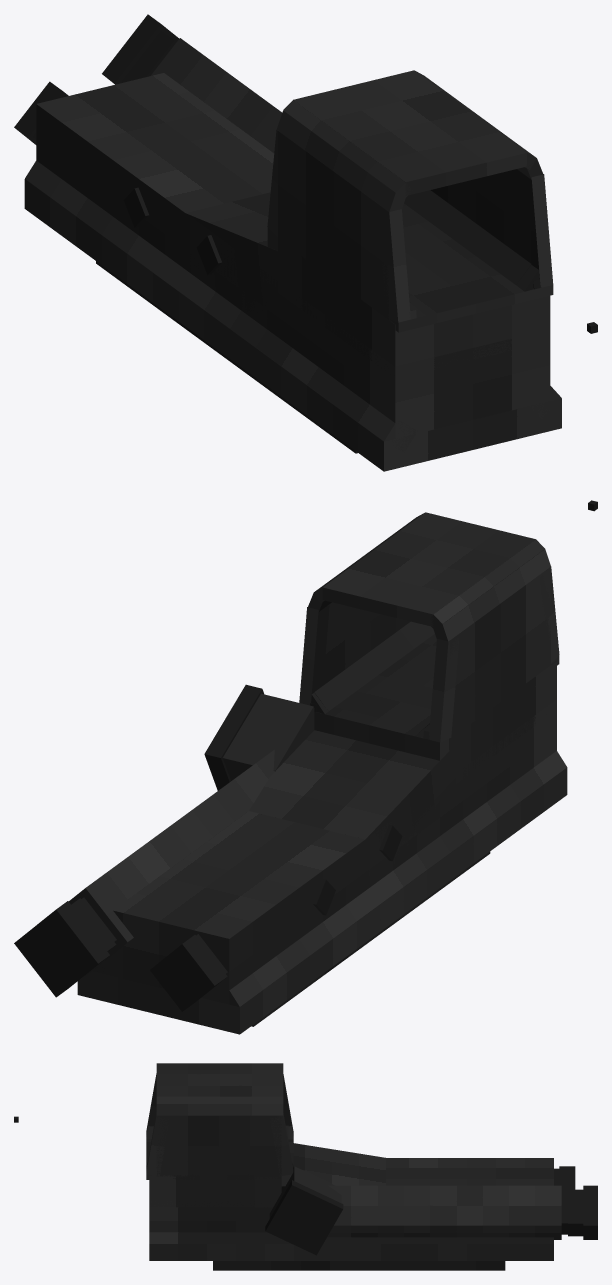
3 renders of one model, top to bottom at view 1: azimuth 30°, elevation 25°; view 2: azimuth 150°, elevation 25°; view 3: azimuth 270°, elevation 25°, orthographic. The views are drawn at different scales.
Visible parts, largest first — view 1: 1p87, pso4; view 2: 1p87, pso4, pso3; view 3: 1p87, pso4, pso3.
Part boxes in pixels (<box>): 1p87: <box>24,70,561,471</box>; pso4: <box>14,14,281,152</box>; 1p87: <box>77,512,567,1034</box>; pso4: <box>14,750,274,1011</box>; pso3: <box>204,684,314,790</box>; 1p87: <box>146,1063,553,1270</box>; pso4: <box>327,1166,597,1239</box>; pso3: <box>265,1166,343,1255</box>.
Bounding box in the file's own units: 32.3 × 42.08 × 128.
Materials: 1 (1 with a texture image).
